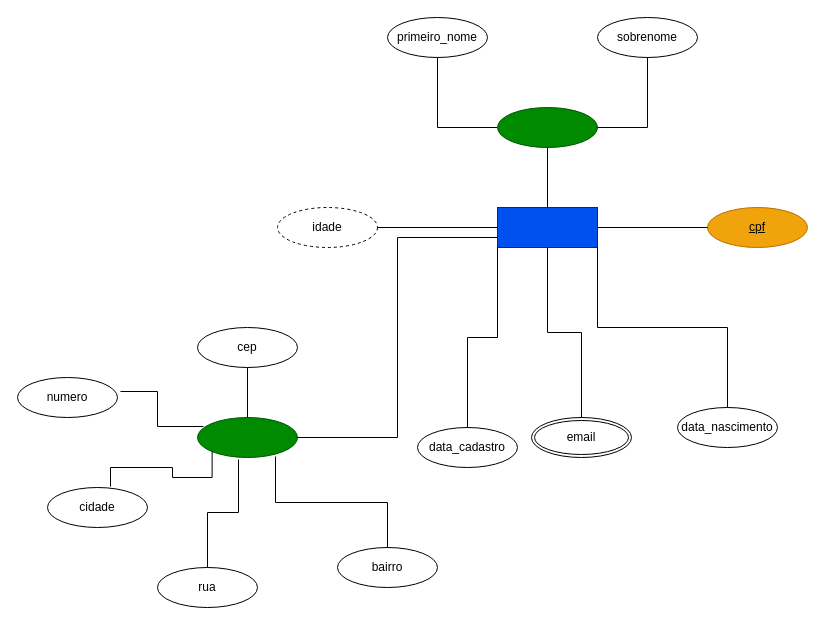
Some shapes in this 825 by 625 pixel diagram are drawn without their labels. The centre of each missing label's shape, as x and y in pixels:
CLIENTE: the point at 547,227
endereco: the point at 247,437
nome_completo: the point at 547,127
